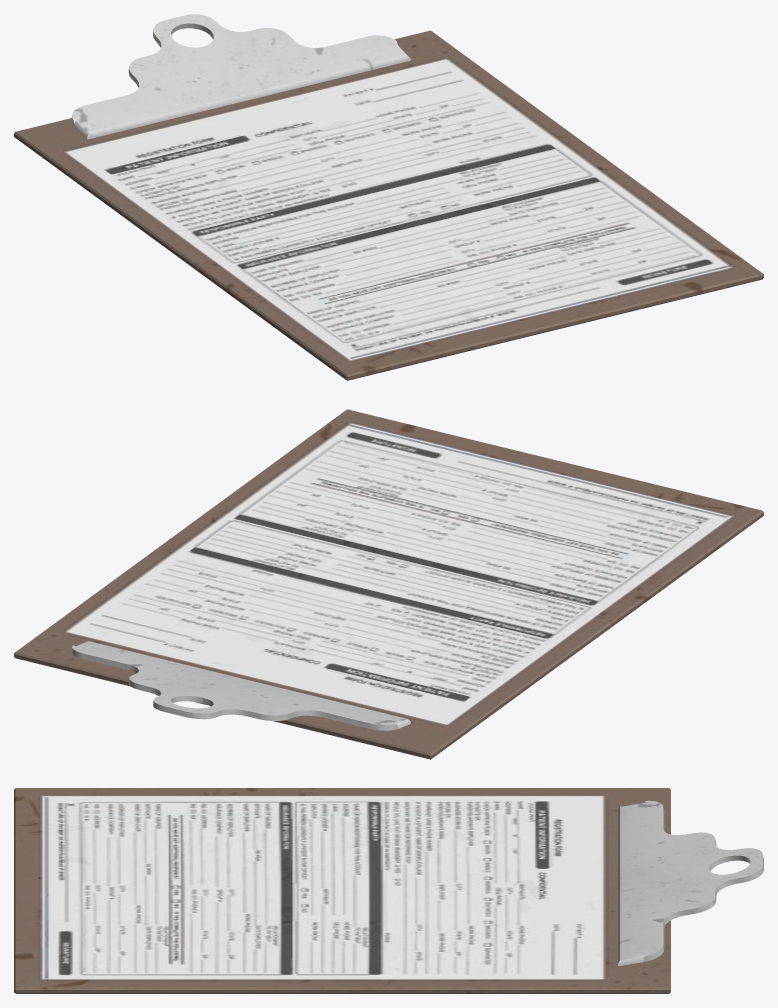
Rendered from SM_Clippboard.glb.
3 views of the same model, one above another, from view 1: azimuth 30°, elevation 25°; view 2: azimuth 150°, elevation 25°; view 3: azimuth 270°, elevation 25° (orthographic).
Visible parts, largest first — view 1: SM_Clippboard; view 2: SM_Clippboard; view 3: SM_Clippboard.
Boxes of the visible parts, box(x1,y1,x2,y2) form: SM_Clippboard: box(14, 14, 763, 380); SM_Clippboard: box(14, 409, 763, 759); SM_Clippboard: box(14, 788, 763, 993).
Bounding box in the file's own units: 0.21 × 0.0167 × 0.3311.
2 materials, 2 textured.
